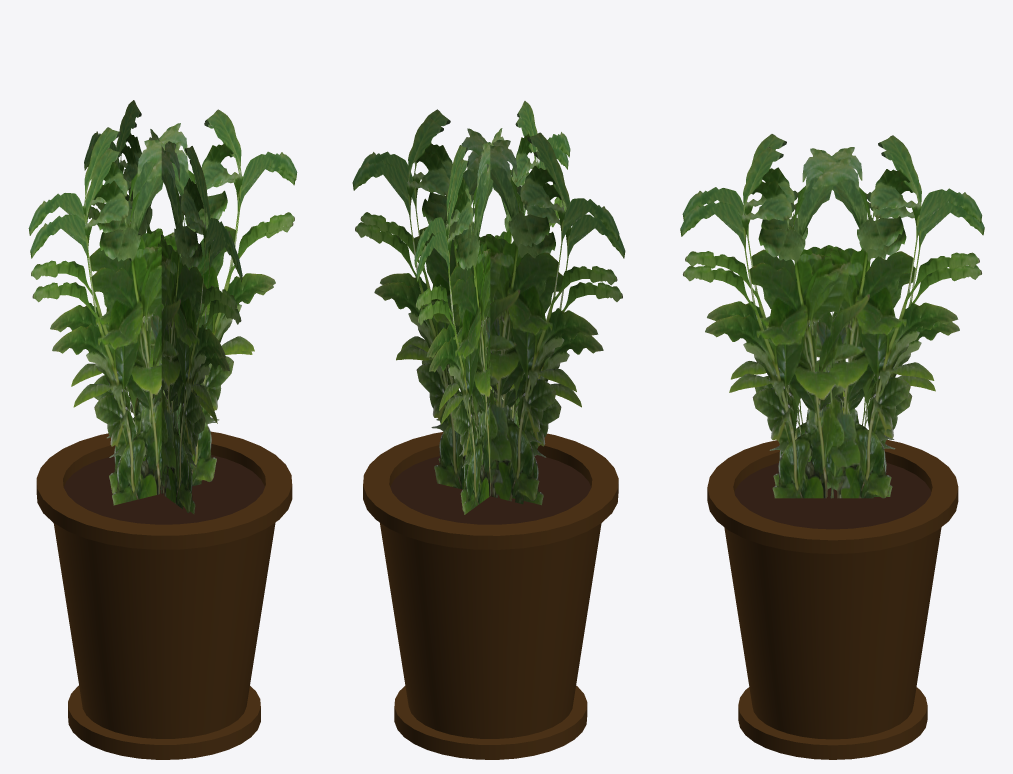
File: Plant_PSX.fbx
3 renders of one model, left to right at view 1: azimuth 30°, elevation 25°; view 2: azimuth 150°, elevation 25°; view 3: azimuth 270°, elevation 25°, orthographic. The views are drawn at different scales.
Visible parts, largest first — view 1: Cylinder, plant, plant.003, plant.002, plant.001; view 2: Cylinder, plant.002, plant.003, plant, plant.001; view 3: Cylinder, plant.001, plant.003.
Boxes of the visible parts, left/top/right/bottom form: Cylinder: left=36, top=431, right=292, bottom=759; plant: left=30, top=109, right=297, bottom=505; plant.003: left=84, top=111, right=237, bottom=512; plant.002: left=28, top=122, right=295, bottom=493; plant.001: left=88, top=100, right=242, bottom=514; Cylinder: left=363, top=432, right=618, bottom=759; plant.002: left=352, top=117, right=619, bottom=504; plant.003: left=416, top=101, right=570, bottom=514; plant: left=360, top=109, right=625, bottom=505; plant.001: left=414, top=117, right=568, bottom=512; Cylinder: left=707, top=439, right=958, bottom=759; plant.001: left=680, top=135, right=982, bottom=498; plant.003: left=682, top=134, right=984, bottom=496.
Size of the model in its own units: 295 by 622 by 295.
3 materials, 1 textured.
